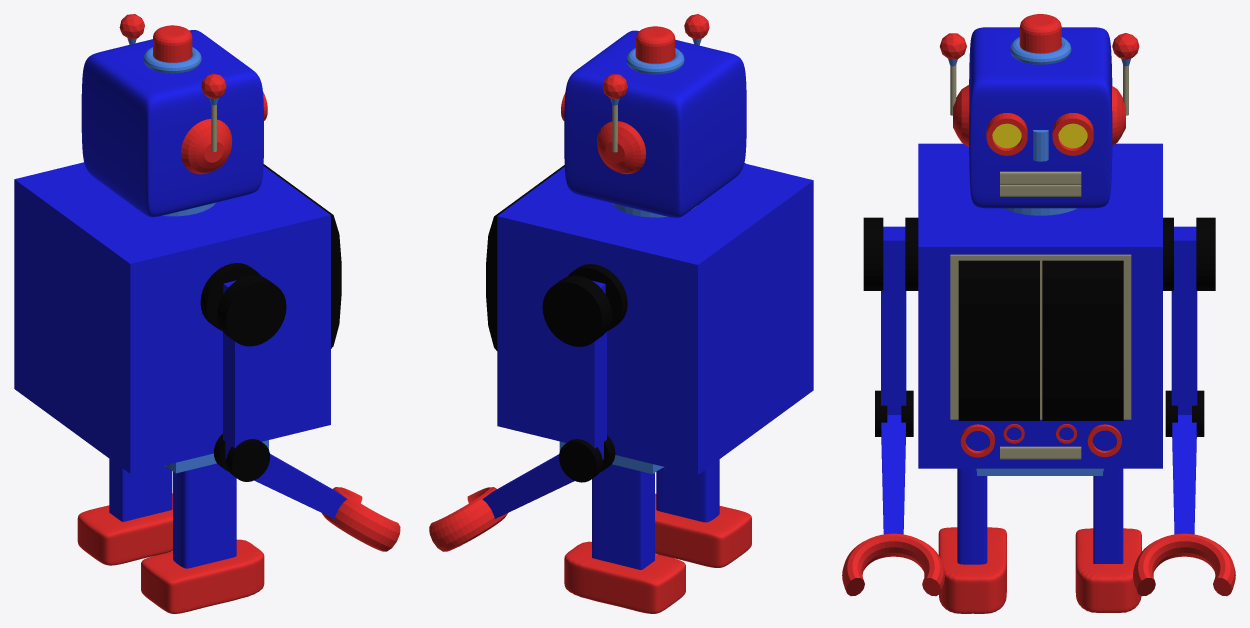
The model's file is robot_Mdl.fbx.
3 renders of one model, left to right at view 1: azimuth 30°, elevation 25°; view 2: azimuth 150°, elevation 25°; view 3: azimuth 270°, elevation 25°, orthographic. The views are drawn at different scales.
Parts seen in each view (by area): view 1: Cylinder.004; view 2: Cylinder.004; view 3: Cylinder.004.
Part boxes in pixels (x1,y1,x2,y2): Cylinder.004: (14,14,400,613); Cylinder.004: (429,14,813,613); Cylinder.004: (842,14,1235,613).
Bounding box in the file's own units: 8.16 × 6.02 × 13.04.
